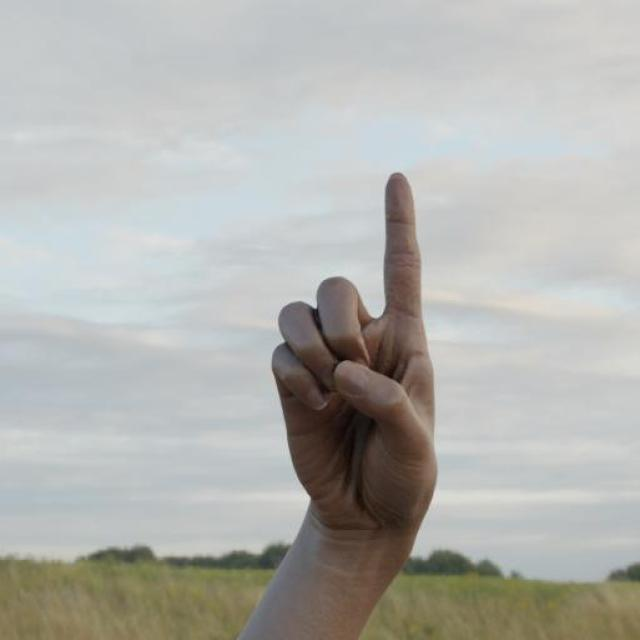D: (263, 174, 448, 578)
